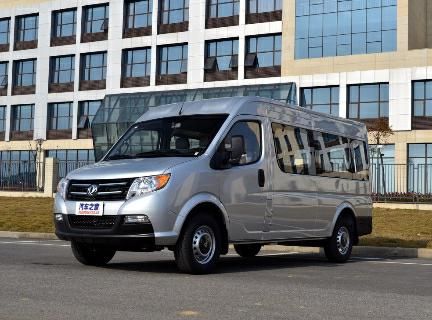东风-御风: (47, 97, 382, 274)
